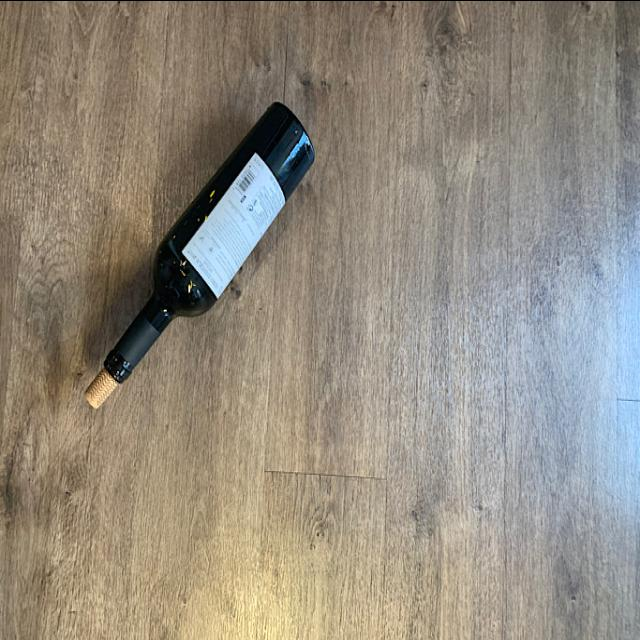litter: (103, 92, 321, 380)
